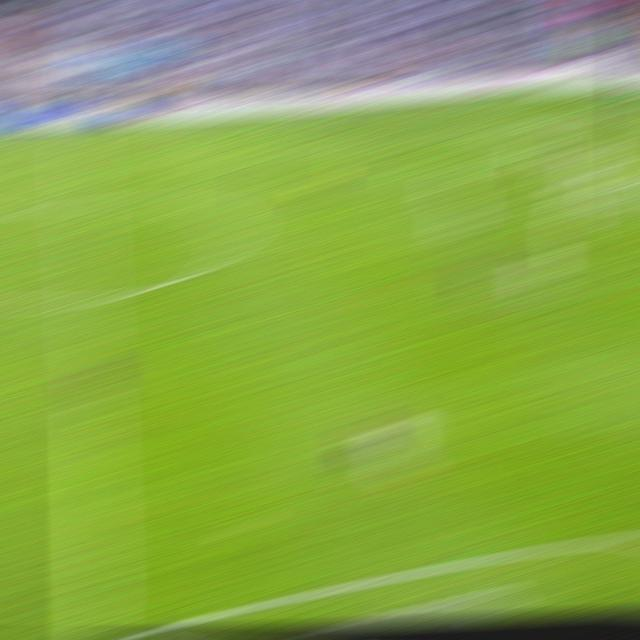halfcircle_bottom: (68, 283, 108, 315)
halfcircle_top: (64, 190, 102, 216)
midline_bottom_intersection: (80, 620, 120, 633)
midline_top_intersection: (64, 128, 96, 138)
top_arc_area_intersection: (556, 152, 585, 159)
